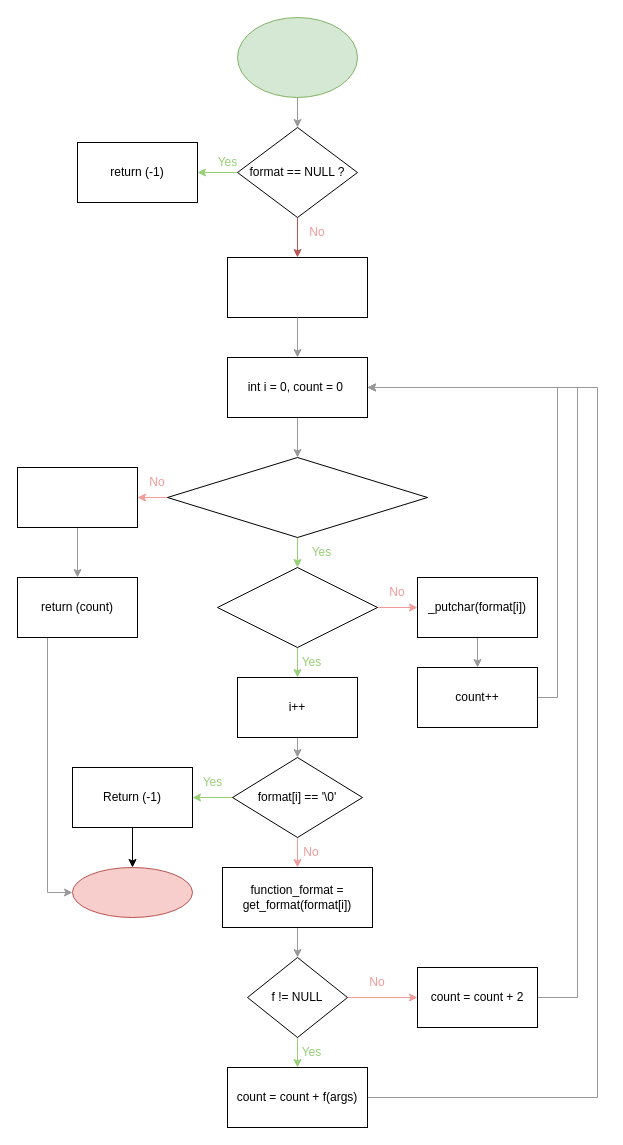
Some shapes in this 623 by 1145 pixel diagram are drawn without their labels. Here are the shapes that lost their labels. From the top down, the centre of each, then its label:
At point 297,57: "START".
At point 297,287: "va_start(args, format)".
At point 77,497: "va_end(args)".
At point 297,497: "format[i] != '\0' && format != NULL".
At point 297,607: "format[i] == '%'".
At point 132,892: "END".
